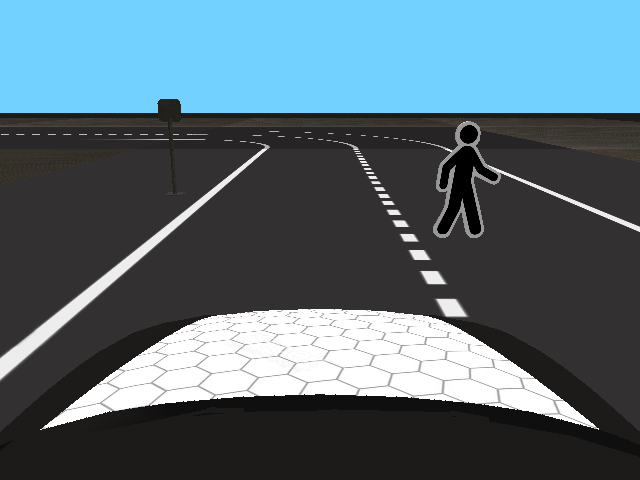pedestrian: (433, 120, 499, 238)
